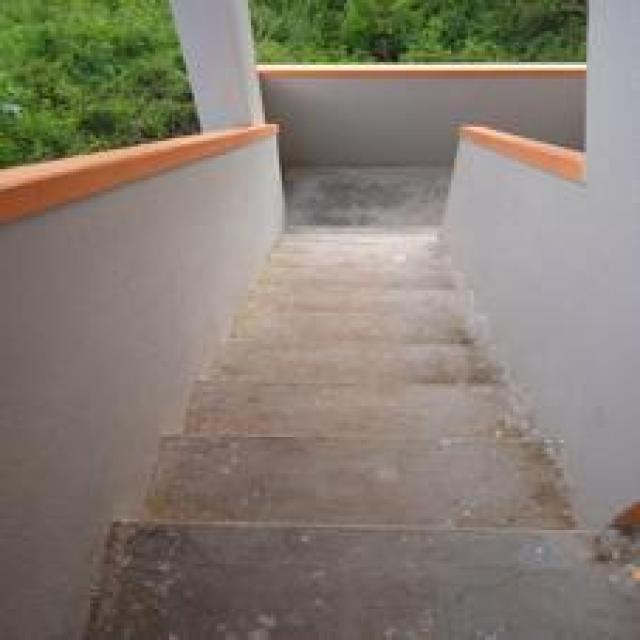downstair: (92, 418, 557, 593)
